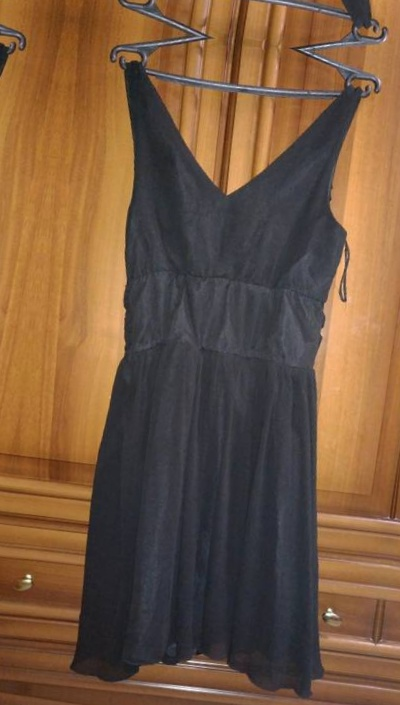Dress: (20, 34, 400, 705), (0, 0, 36, 666), (107, 0, 400, 55), (390, 83, 400, 705), (0, 702, 338, 705), (0, 0, 123, 4)
